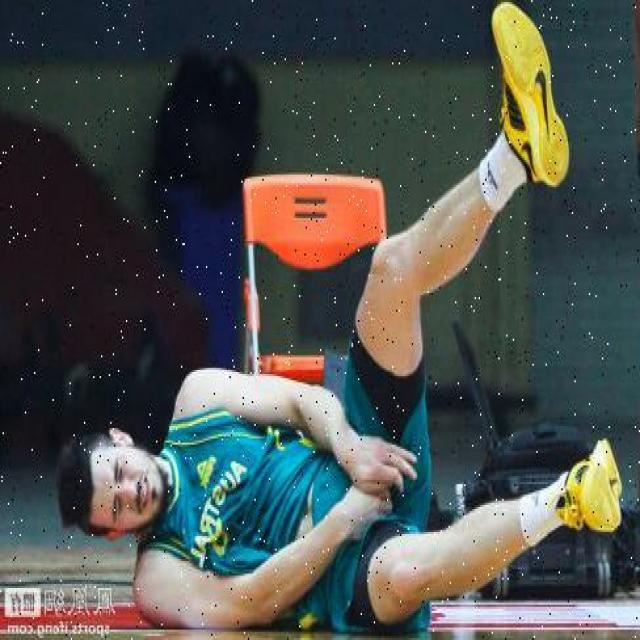fall: (68, 135, 604, 607)
